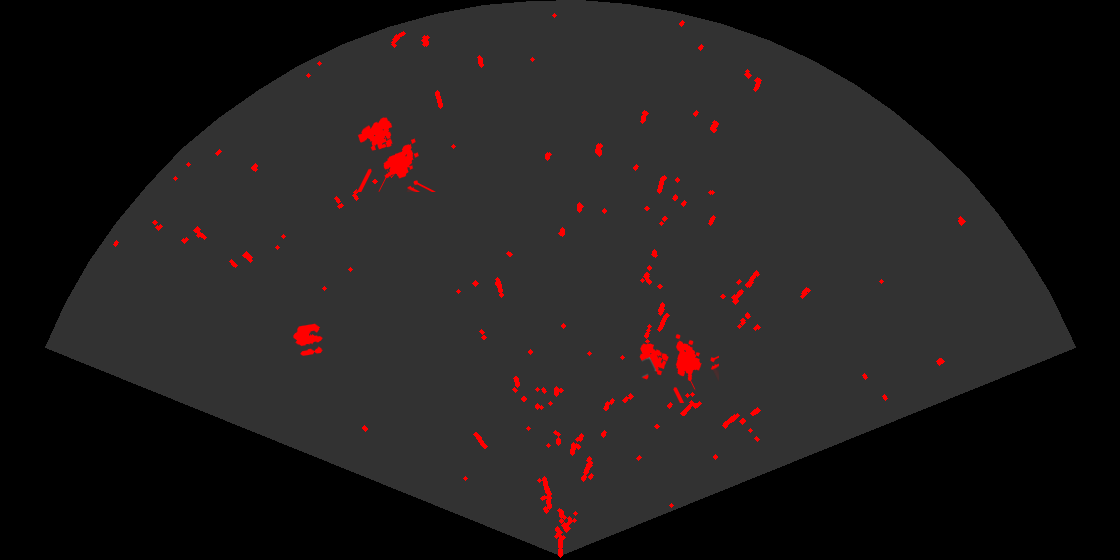ball: (292, 322, 324, 357)
cage: (356, 116, 437, 192), (638, 332, 719, 403)
